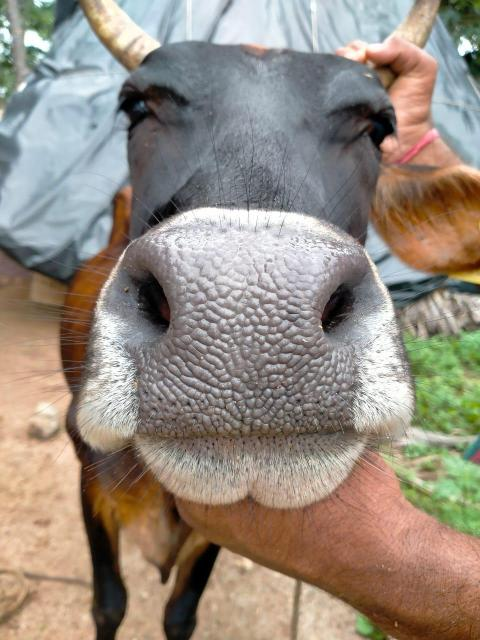Muzzle: (154, 233, 332, 442)
